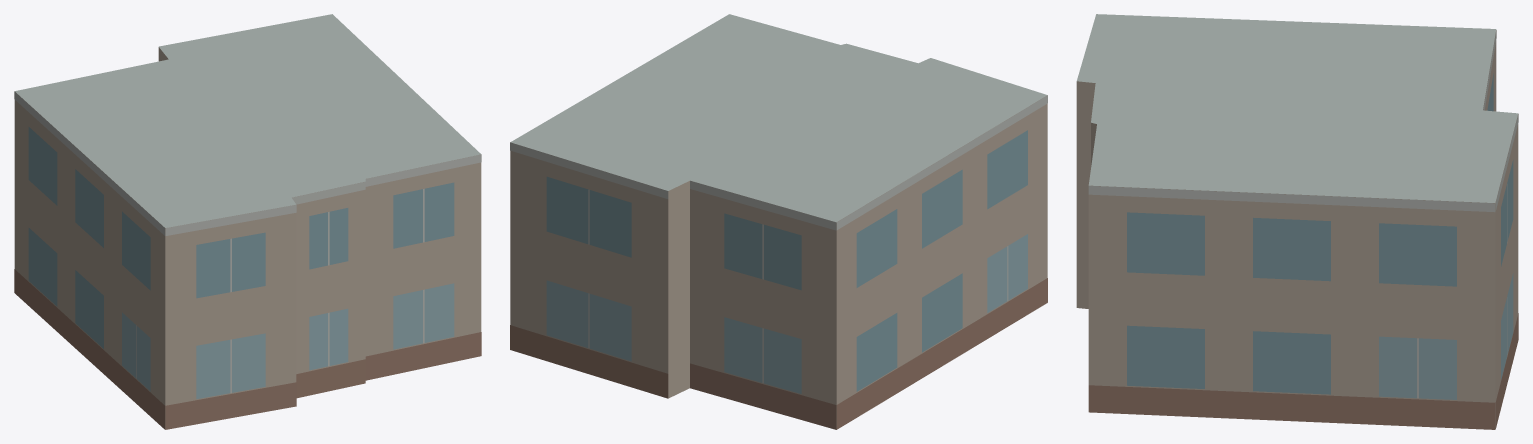
File: survey-upis-33015333.glb
The picture shows the model from 3 angles, left to right: view 1: azimuth 30°, elevation 25°; view 2: azimuth 150°, elevation 25°; view 3: azimuth 270°, elevation 25°; orthographic projection. The views are drawn at different scales.
Visible parts, largest first — view 1: survey-upis-33015333.tmp; view 2: survey-upis-33015333.tmp; view 3: survey-upis-33015333.tmp.
Part boxes in pixels (<box>): survey-upis-33015333.tmp: <box>14,14,481,429</box>; survey-upis-33015333.tmp: <box>510,14,1047,429</box>; survey-upis-33015333.tmp: <box>1076,14,1518,429</box>.
Size of the model in its own units: 10.92 by 6.1 by 10.78.
